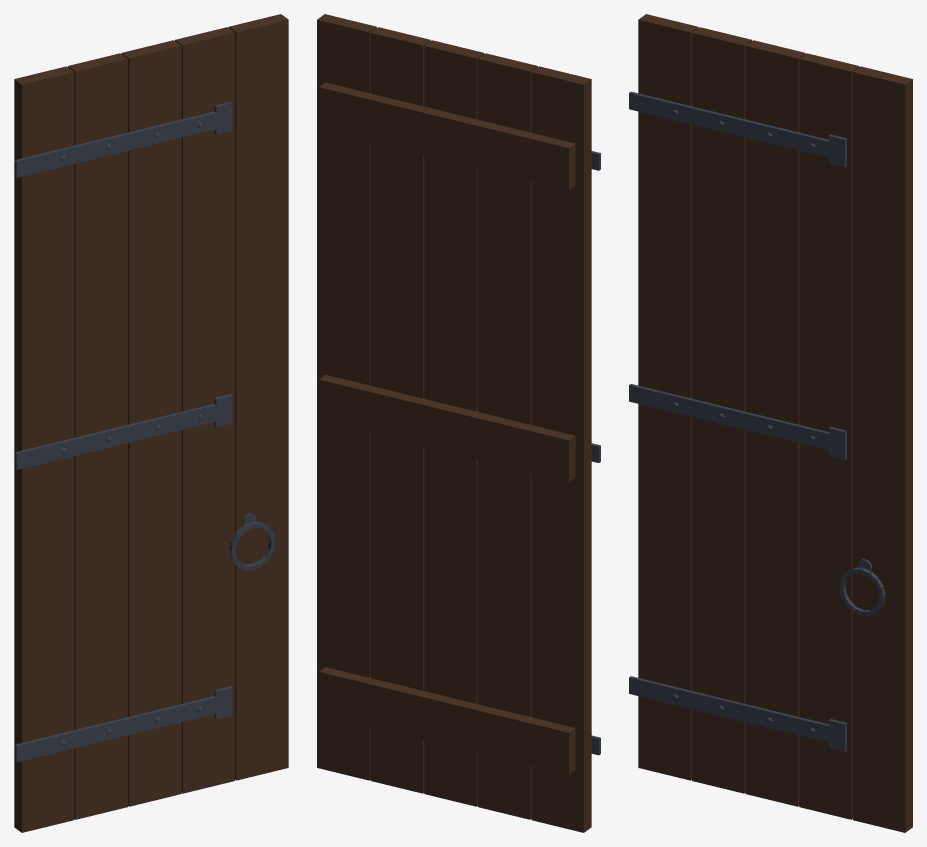
Rendered from door_leaf.glb.
3 renders of one model, left to right at view 1: azimuth 30°, elevation 25°; view 2: azimuth 150°, elevation 25°; view 3: azimuth 330°, elevation 25°, orthographic.
Parts seen in each view (by area): view 1: door_leaf; view 2: door_leaf; view 3: door_leaf.
Part boxes in pixels (x1=…): door_leaf: x1=14, y1=14, x2=288, y2=832; door_leaf: x1=317, y1=14, x2=600, y2=832; door_leaf: x1=629, y1=14, x2=912, y2=832.
Bounding box in the file's own units: 1.23 × 3.2 × 0.144.
